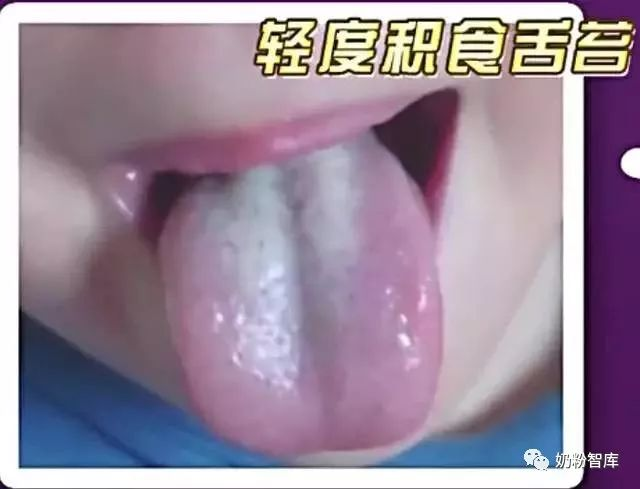baitaishe: (157, 170, 445, 459)
huataishe: (368, 271, 438, 378)
